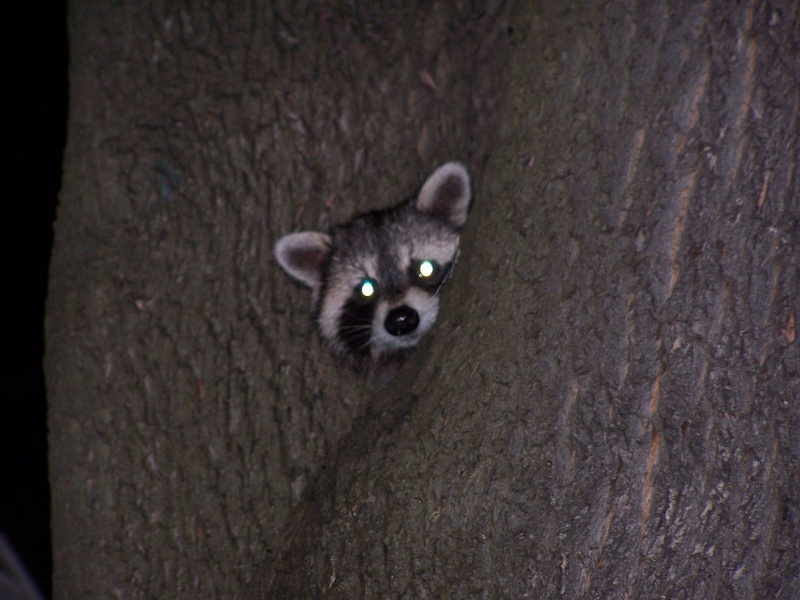raccoon: (271, 160, 478, 352)
